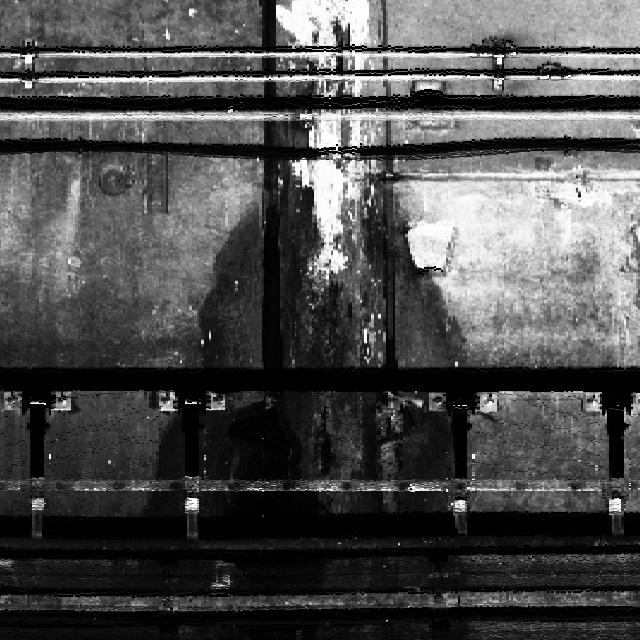leakage: (135, 0, 476, 639)
